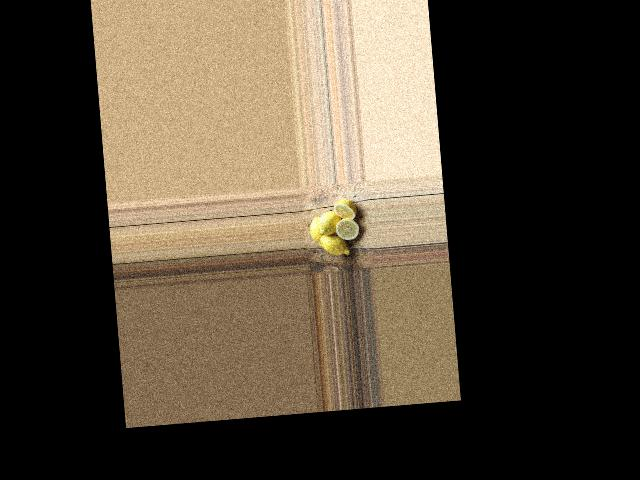lemon: (317, 232, 352, 260)
